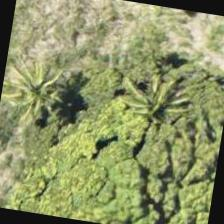Kelapa_Sawit: (100, 50, 204, 154), (0, 43, 96, 147)
